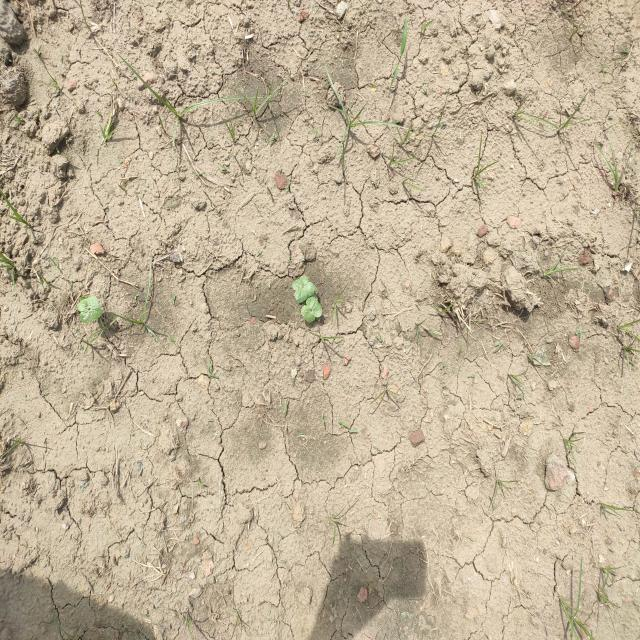seedling_s2: (77, 297, 103, 325), (295, 282, 315, 303), (306, 297, 322, 317), (301, 305, 315, 323), (292, 276, 308, 290)
